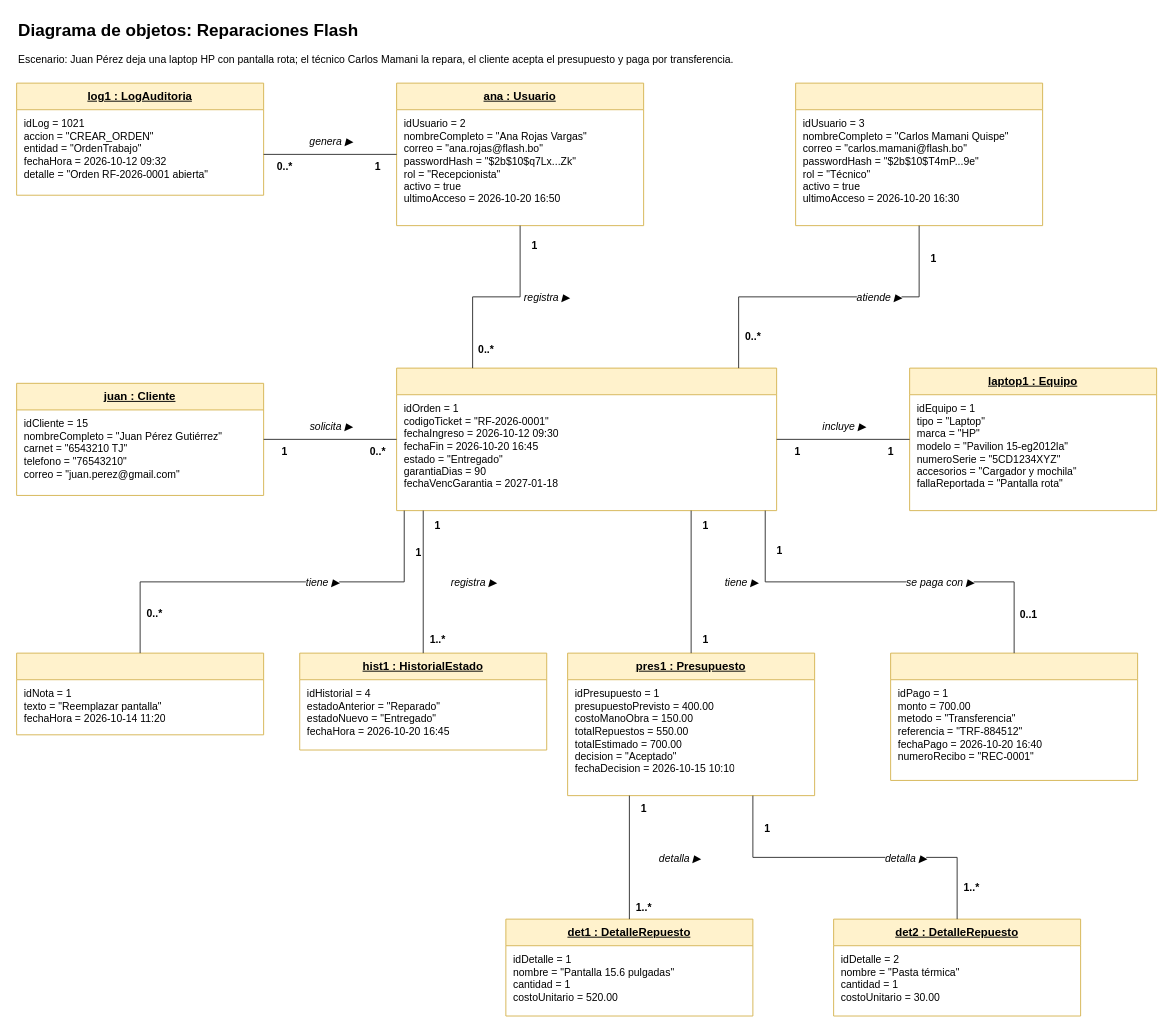
This 1173x1035 diagram has some shape labels left out. Each missing label, with the box of its shape:
carlos : Usuario: (795, 82, 1043, 226)
nota1 : NotaTecnica: (16, 652, 264, 735)
ot1 : OrdenTrabajo: (396, 367, 777, 511)
pago1 : Pago: (890, 652, 1138, 780)
